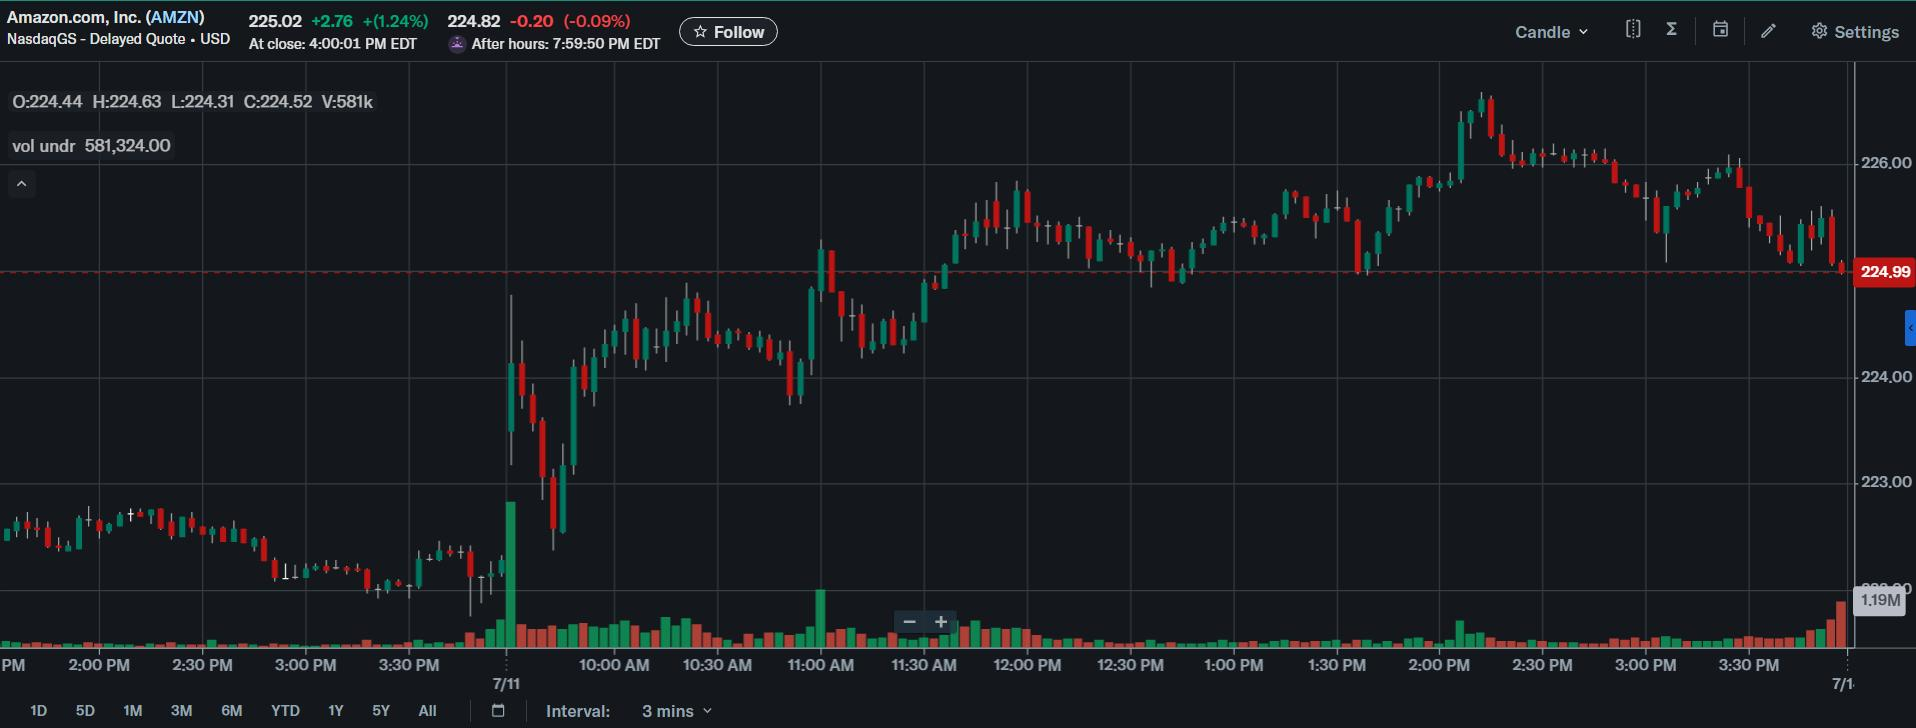Downtrend: (516, 342, 563, 556)
Sideways: (4, 503, 274, 564), (1072, 204, 1235, 288), (1, 503, 100, 556)
Uptrend: (1361, 82, 1490, 278), (897, 177, 1004, 364), (1653, 151, 1745, 264)
